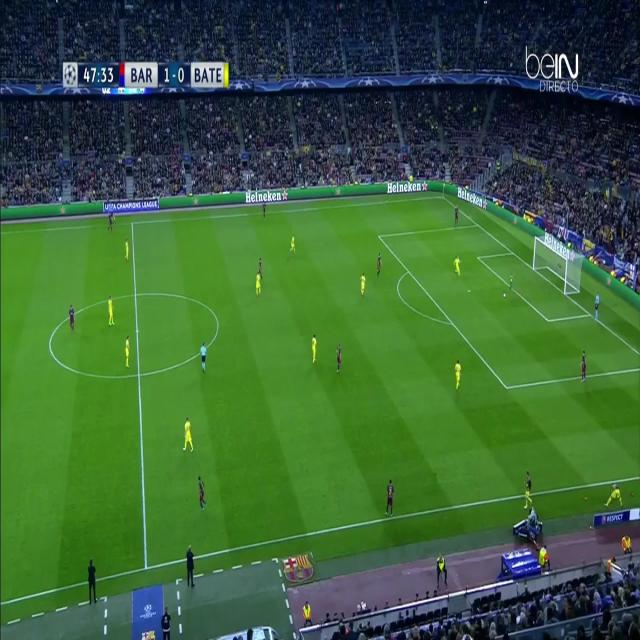Ball: (502, 292, 507, 299)
Goalkeeper: (508, 272, 518, 298)
Player: (182, 416, 196, 456), (385, 477, 397, 518), (578, 349, 588, 389), (197, 474, 207, 512), (357, 270, 369, 301), (108, 294, 118, 326), (373, 251, 383, 283), (453, 359, 462, 394), (287, 232, 298, 258), (310, 332, 318, 367), (125, 332, 132, 371), (336, 344, 344, 378), (67, 303, 76, 333), (451, 203, 461, 229), (255, 269, 263, 297), (123, 235, 131, 261), (453, 255, 462, 278), (257, 257, 264, 281), (261, 200, 269, 220), (107, 212, 114, 234)
Referee: (198, 341, 208, 374), (593, 290, 601, 326), (108, 203, 116, 226)
